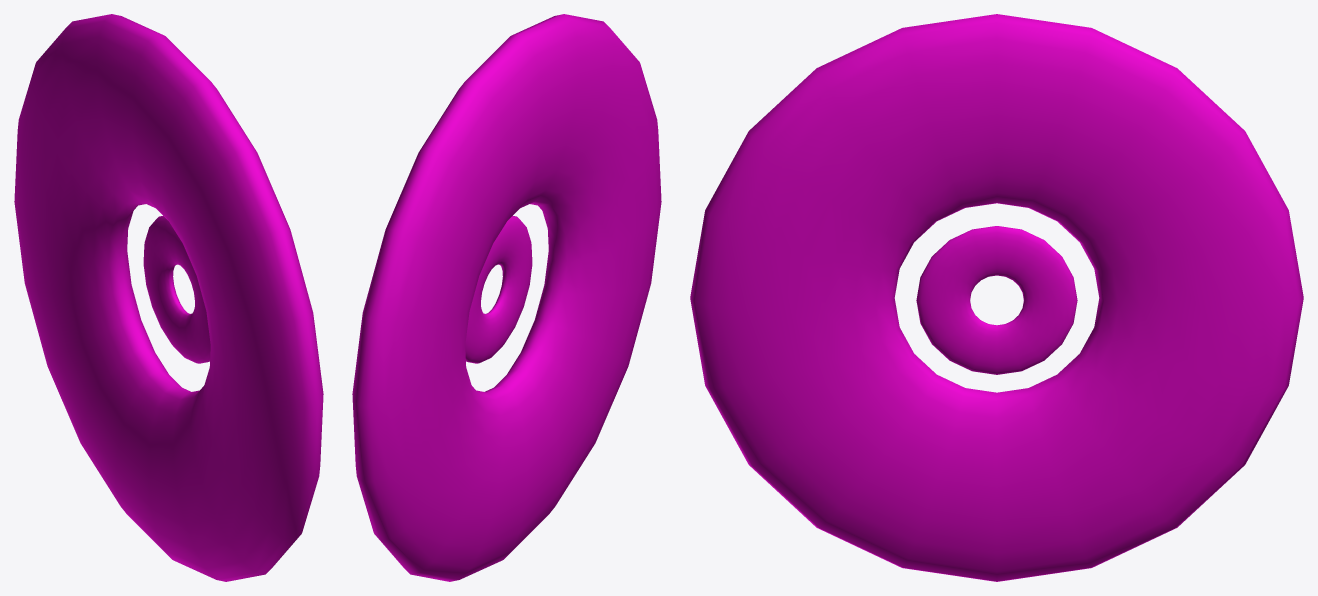
Rendered from Teleport.fbx.
The picture shows the model from 3 angles, left to right: view 1: azimuth 30°, elevation 25°; view 2: azimuth 150°, elevation 25°; view 3: azimuth 270°, elevation 25°; orthographic projection. The views are drawn at different scales.
Parts seen in each view (by area): view 1: pTorus1, pTorus2; view 2: pTorus1, pTorus2; view 3: pTorus1, pTorus2.
Part boxes in pixels (x1,y1,x2,y2): pTorus1: (14, 14, 323, 581); pTorus2: (143, 216, 210, 363); pTorus1: (352, 14, 661, 581); pTorus2: (465, 216, 532, 363); pTorus1: (690, 14, 1303, 581); pTorus2: (916, 226, 1077, 374).
Bounding box in the file's own units: 9.43 × 65.78 × 65.86.
